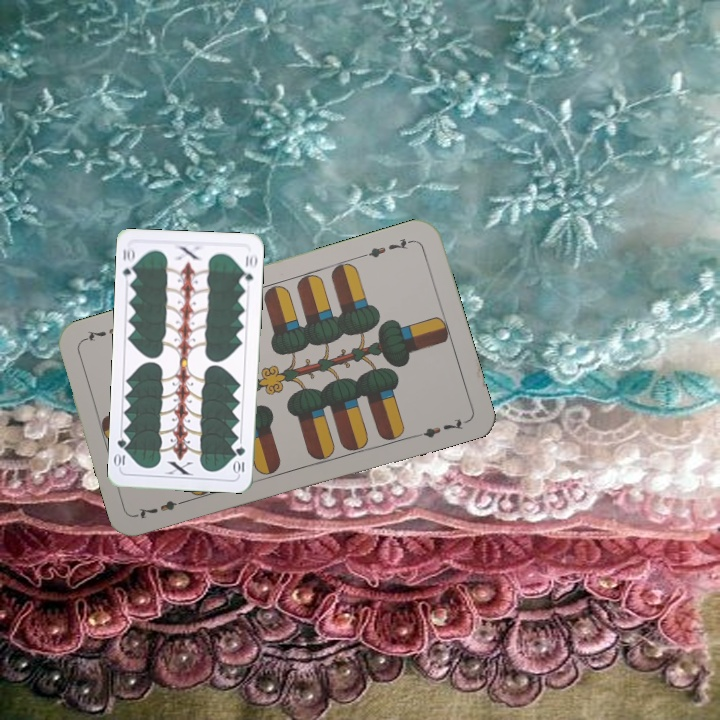E7: (358, 234, 416, 261), (133, 495, 191, 521)
G10: (119, 243, 138, 284), (231, 443, 247, 477)
